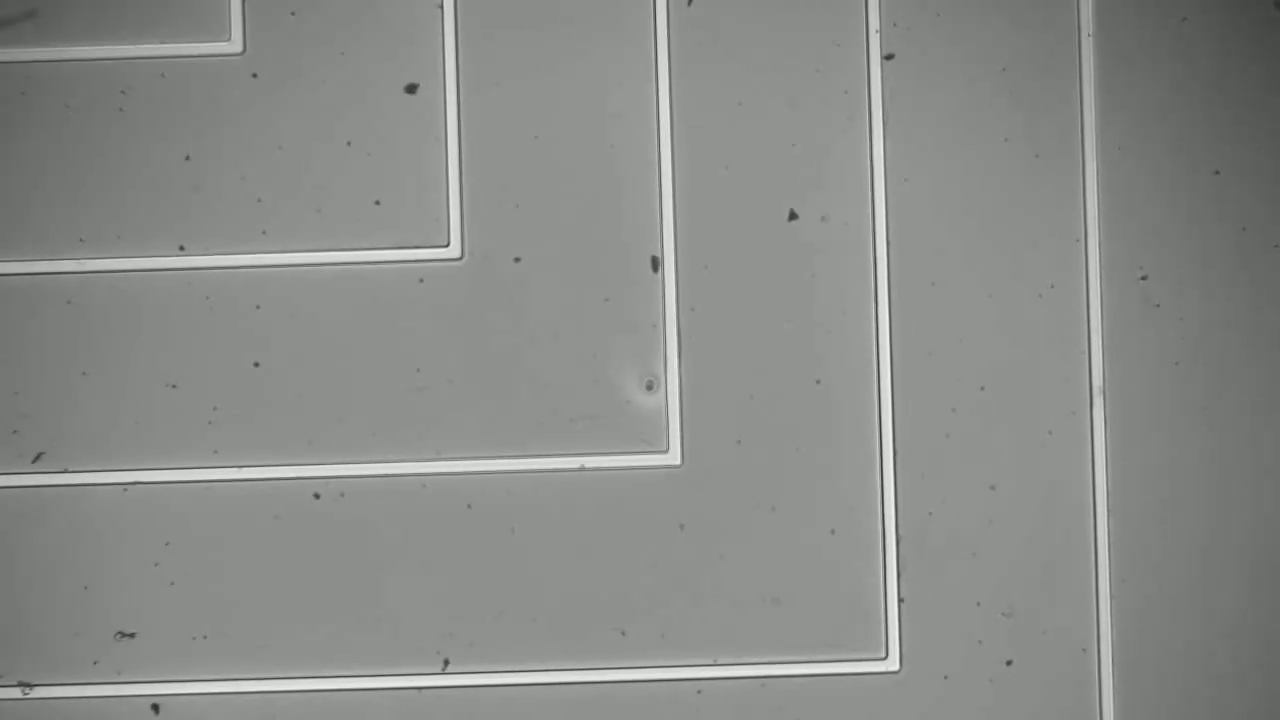stains_enbedded: (12, 668, 39, 706)
